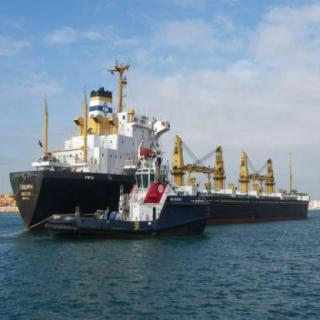Bulk Carrier: (9, 50, 209, 235)
